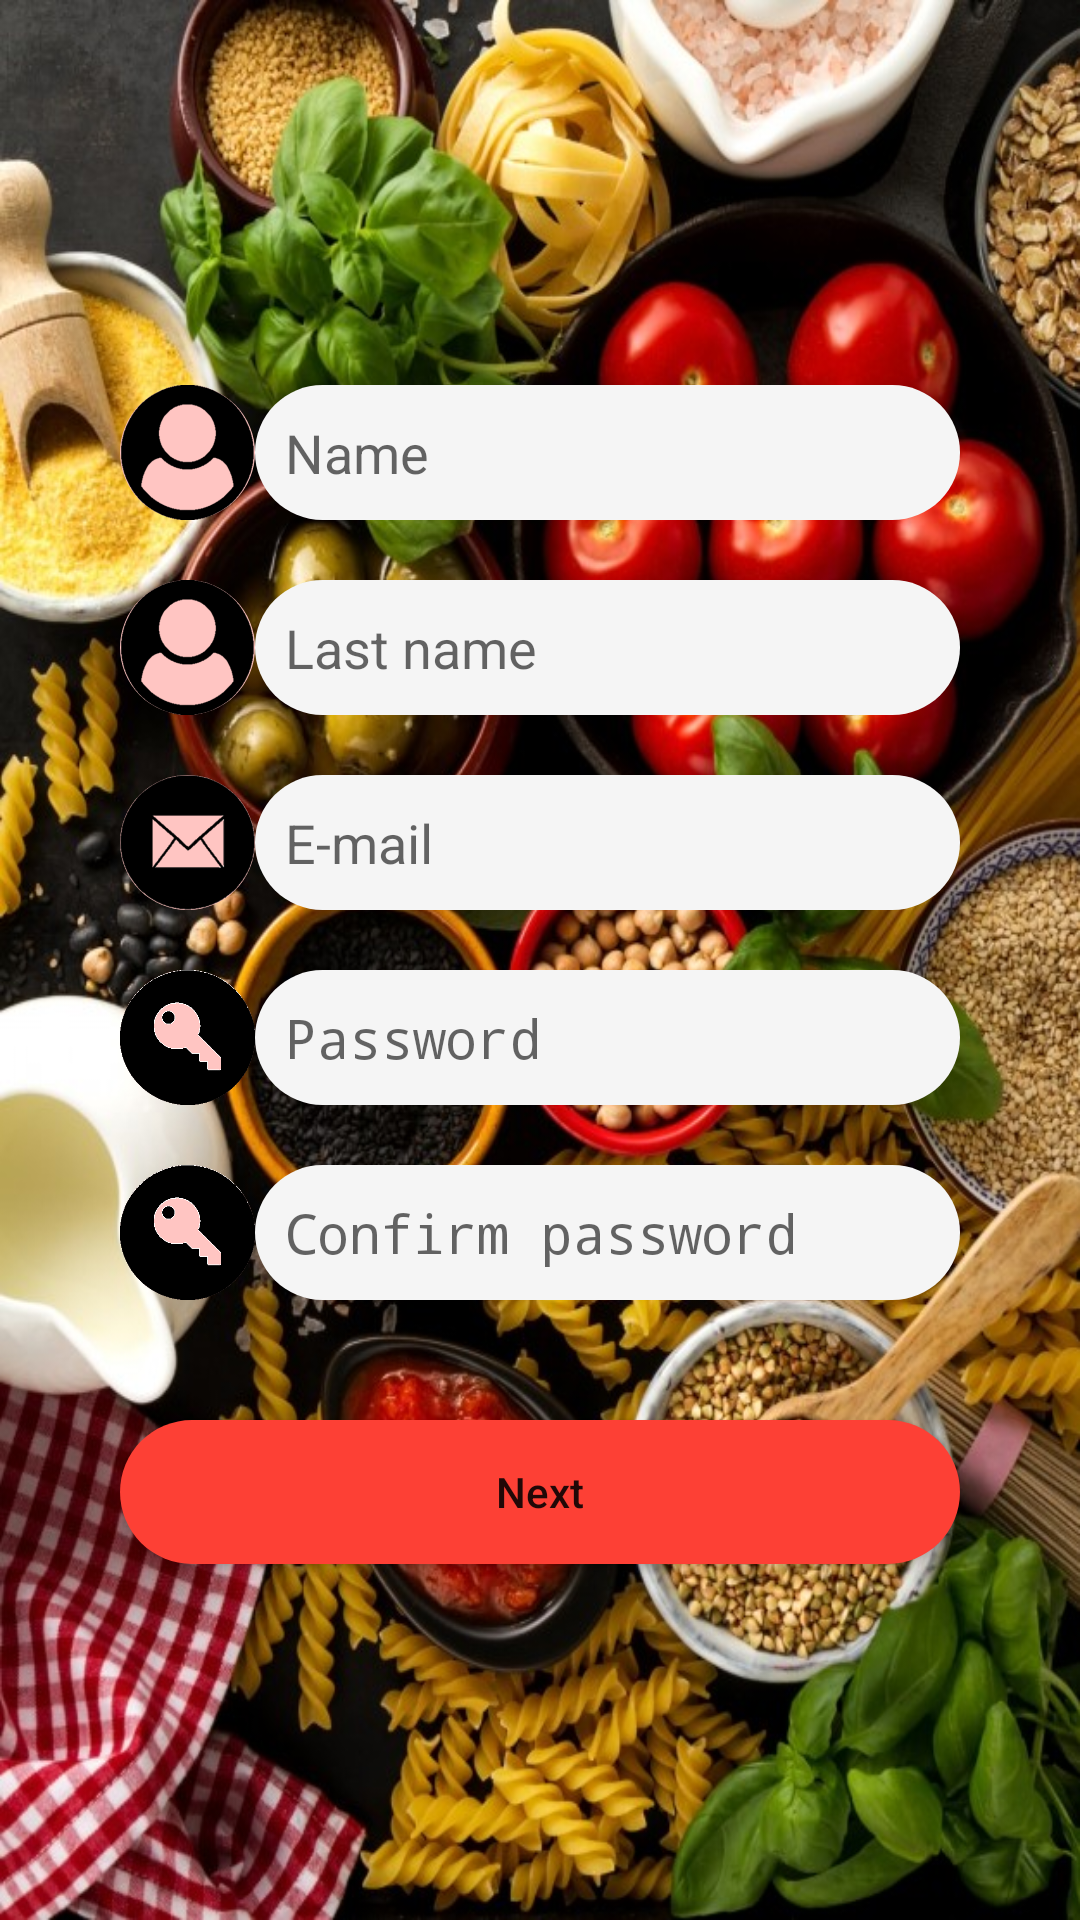

Icons on this 1080×1920 Android screen, each with the point to tap as point (x, y):
user: point (187, 452), point (187, 647)
